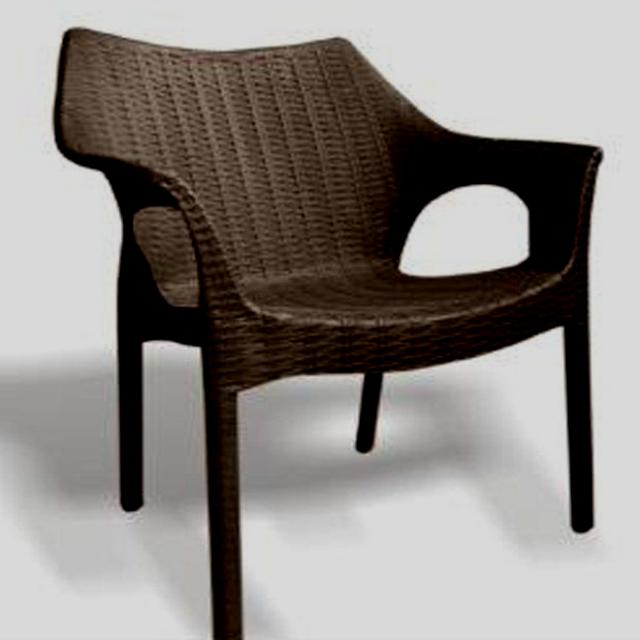Chair: (53, 27, 609, 640)
